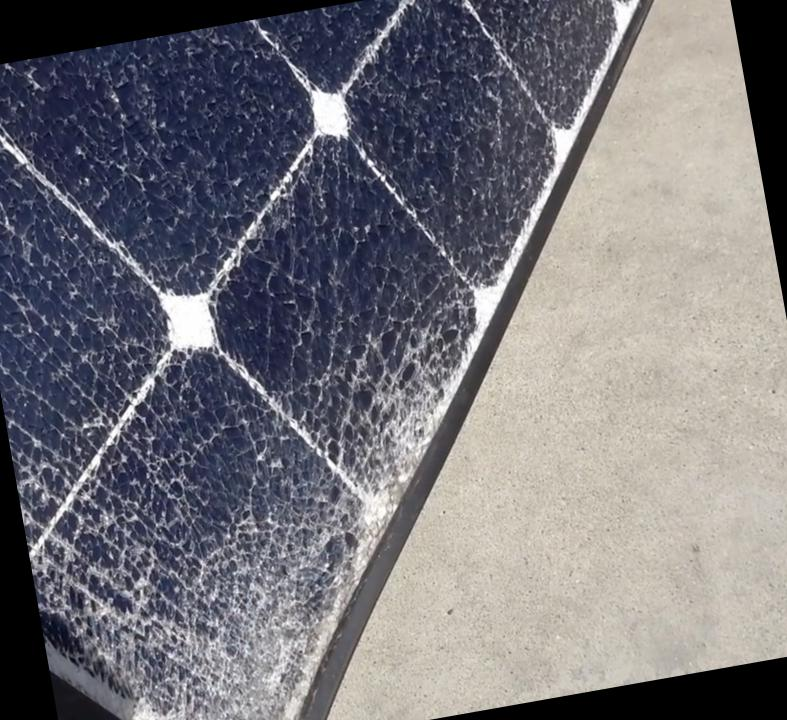Crack: (0, 0, 782, 719)
